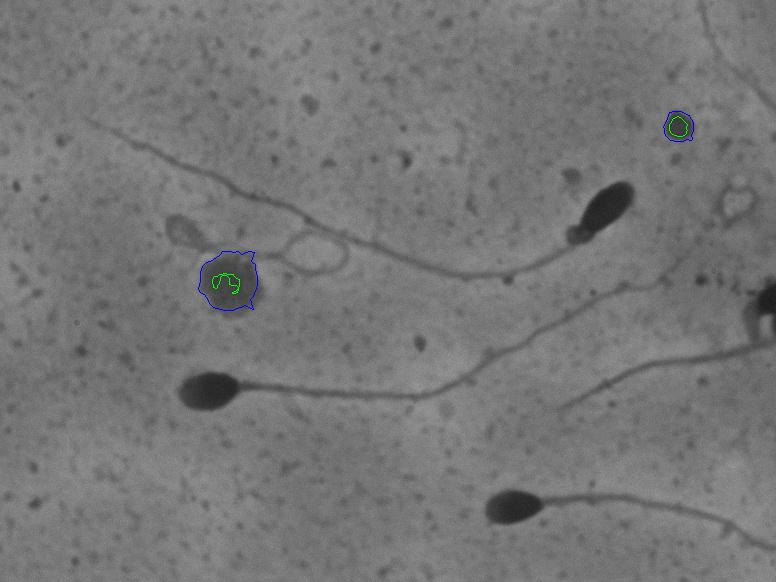Abnormal: (75, 100, 648, 296)
Normal: (161, 206, 741, 429), (453, 455, 758, 569)
